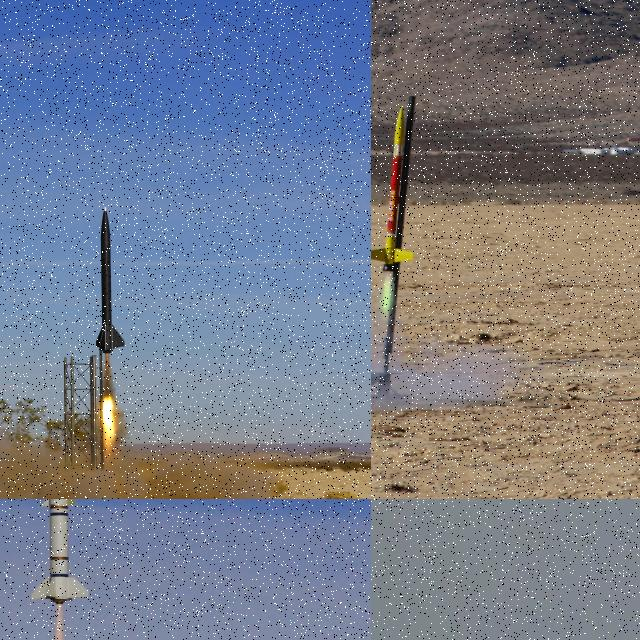Rocket: (371, 105, 415, 267), (28, 499, 92, 606), (95, 205, 126, 355)
